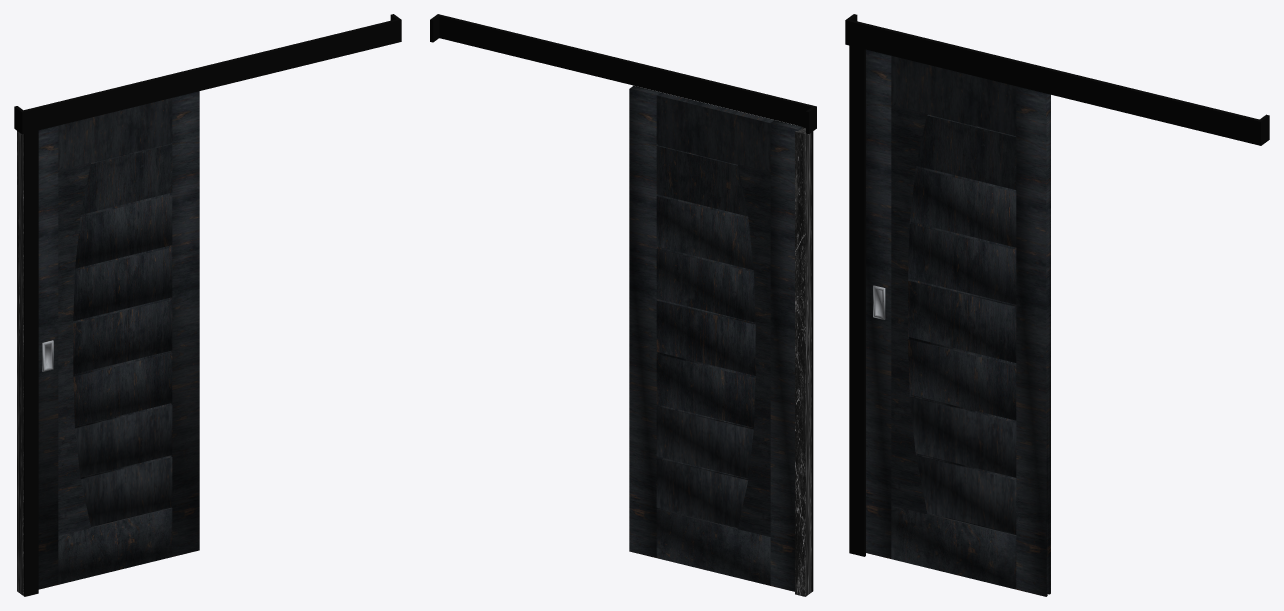
The model's file is slide door.glb.
The picture shows the model from 3 angles, left to right: view 1: azimuth 30°, elevation 25°; view 2: azimuth 150°, elevation 25°; view 3: azimuth 330°, elevation 25°; orthographic projection. The views are drawn at different scales.
Visible parts, largest first — view 1: Cube.016, Cube.014, HANDLE, Cube.002, Sliding door kit-600, Cube.017, Cube.024, Cube.020, Cube.004, Cube.003, Cube.026, Cube.006 (+3 smaller); view 2: Cube.016, HANDLE, Cube.014, Cube.011, Cube.002, Cube.003, Cube.017, Cube.024, Cube.020, Cube.004, Cube.026, Cube.006 (+3 smaller); view 3: Cube.016, HANDLE, Cube.014, Cube.002, Sliding door kit-600, Cube.017, Cube.024, Cube.020, Cube.004, Cube.003, Cube.026, Cube.006 (+2 smaller).
Part boxes in pixels (x1,y1,x2,y2): Cube.016: [171, 91, 199, 556]; Cube.014: [14, 14, 401, 134]; HANDLE: [38, 126, 58, 589]; Cube.002: [58, 162, 91, 535]; Sliding door kit-600: [23, 130, 38, 596]; Cube.017: [58, 507, 172, 584]; Cube.024: [73, 297, 172, 374]; Cube.020: [73, 351, 172, 426]; Cube.004: [73, 245, 172, 321]; Cube.003: [58, 98, 172, 170]; Cube.026: [75, 193, 172, 268]; Cube.006: [75, 403, 172, 477]; Cube.016: [629, 85, 660, 557]; HANDLE: [770, 120, 801, 591]; Cube.014: [430, 14, 816, 133]; Cube.011: [795, 127, 811, 596]; Cube.002: [737, 164, 770, 536]; Cube.003: [656, 92, 774, 171]; Cube.017: [656, 508, 770, 585]; Cube.024: [656, 299, 755, 375]; Cube.020: [656, 352, 755, 427]; Cube.004: [656, 247, 755, 322]; Cube.026: [656, 194, 753, 269]; Cube.006: [656, 404, 753, 478]; Cube.016: [1016, 86, 1050, 596]; HANDLE: [866, 49, 891, 558]; Cube.014: [845, 14, 1269, 145]; Cube.002: [891, 105, 928, 514]; Sliding door kit-600: [849, 45, 865, 556]; Cube.017: [891, 505, 1016, 589]; Cube.024: [908, 279, 1016, 362]; Cube.020: [908, 337, 1016, 420]; Cube.004: [908, 222, 1016, 304]; Cube.003: [891, 56, 1016, 135]; Cube.026: [910, 166, 1016, 247]; Cube.006: [910, 395, 1016, 477].
Size of the model in its own units: 1.8 by 2.2 by 0.068.
Materials: 6 (4 with a texture image).
